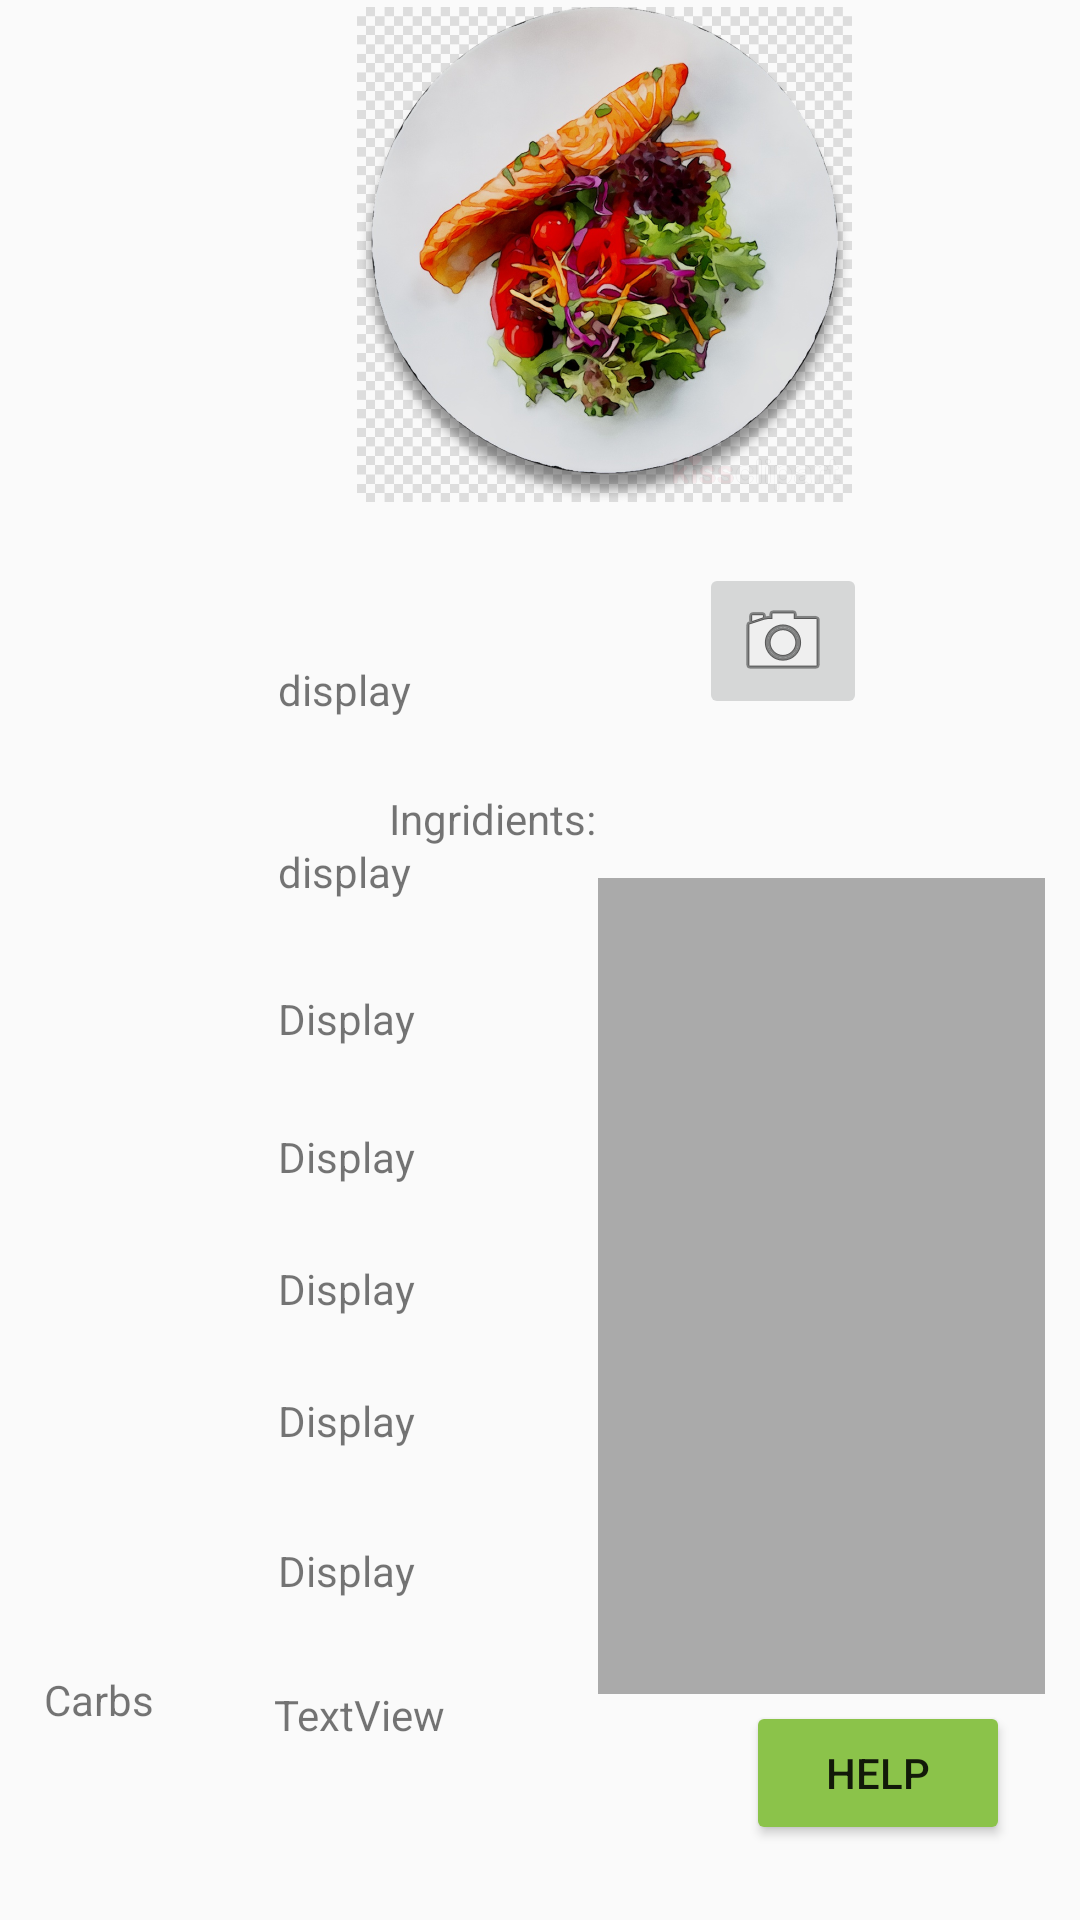

Named icons in this screenshot (1080x1920) and their centers, [x,y]:
camera: [783,641]
